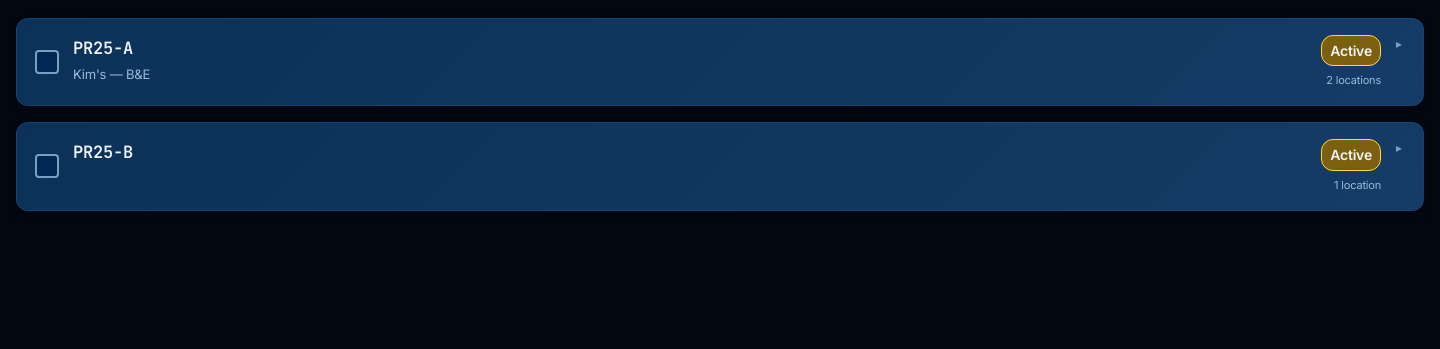
Test: ExportHub — single-open accordion › opening a second case closes the first — exactly one open at a time
Click the button "PR25-A Kim's — B&E Active 2 locations ▸" at (103, 48), box left=65, top=19, right=1423, bottom=105
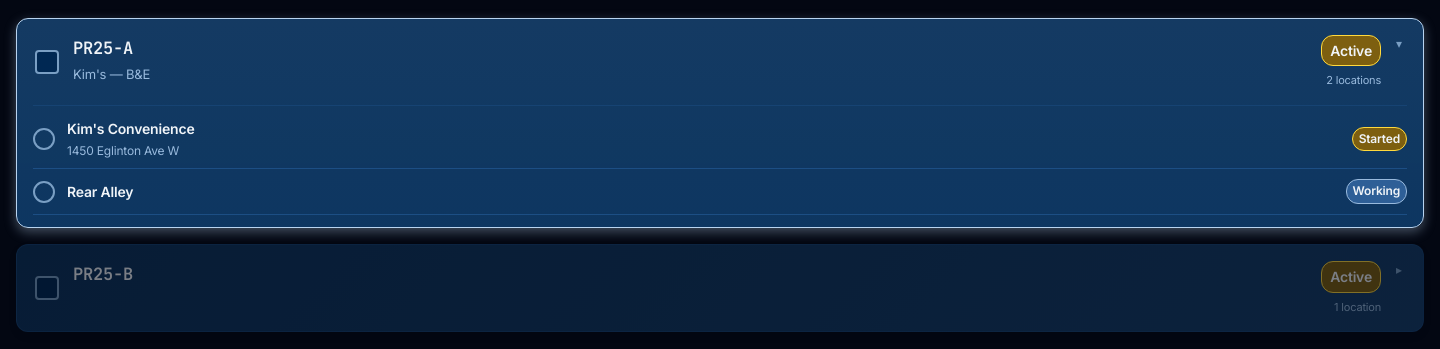
Click the button "PR25-B Active 1 location ▸" at (103, 274), box left=65, top=245, right=1423, bottom=332
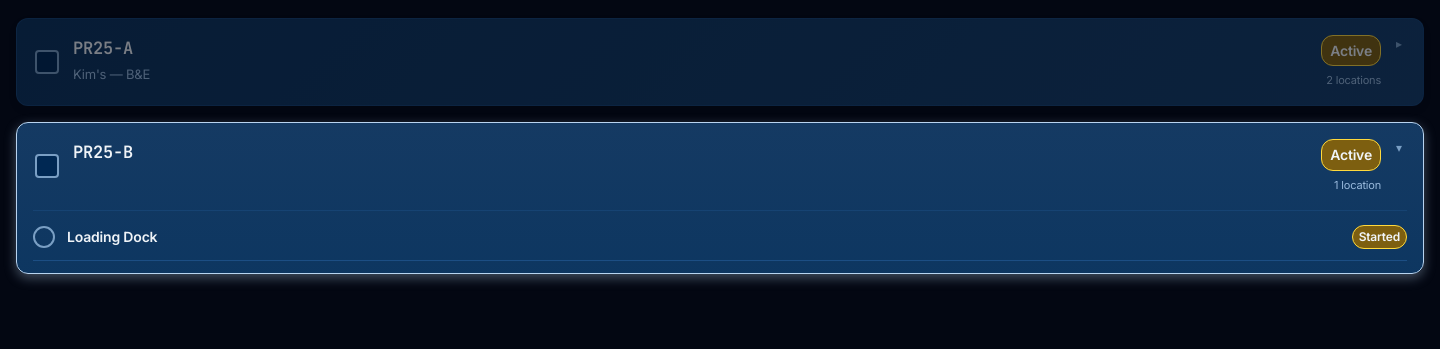
Check: the checkbox named "Select Loading Dock" is shown, box left=33, top=215, right=1407, bottom=261
